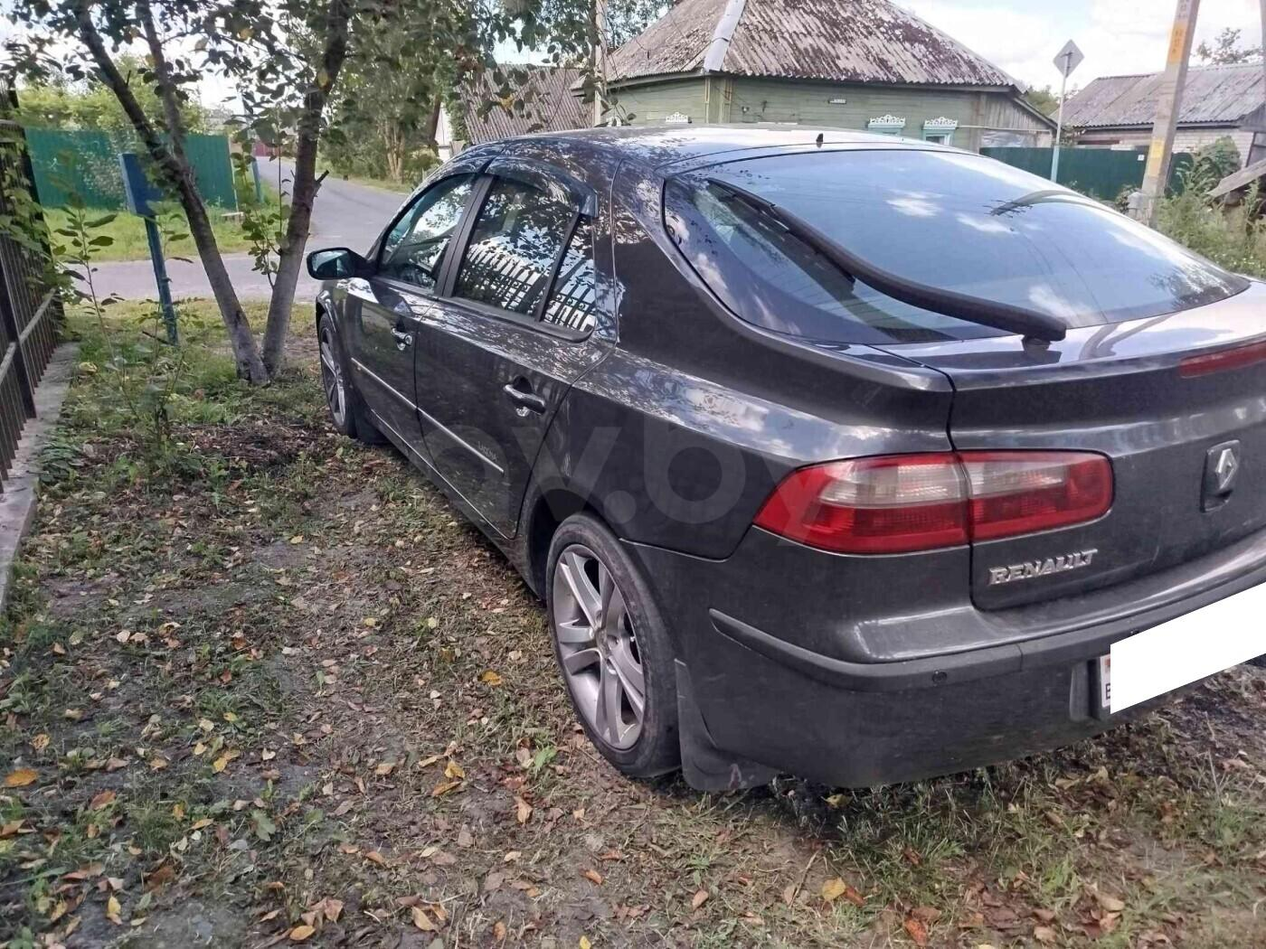Laguna_2001-2005: (309, 126, 1265, 790)
